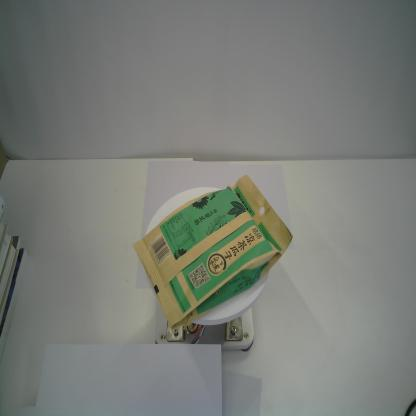Dried Food: (131, 172, 294, 333)
